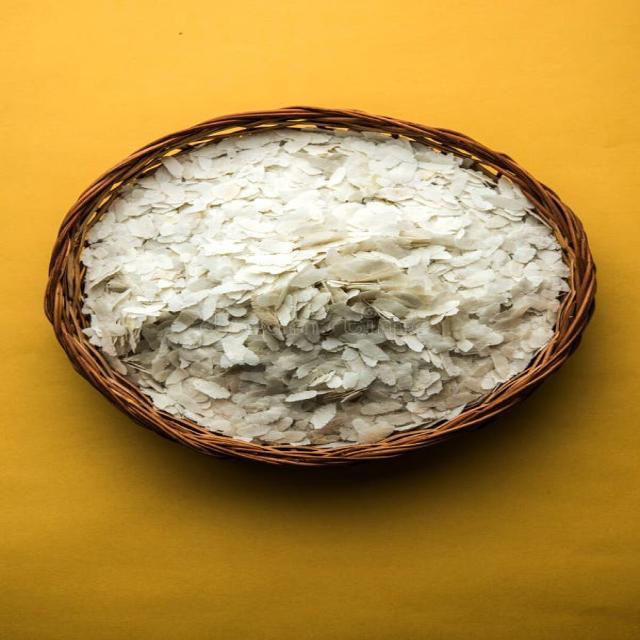POHA: (73, 134, 560, 441)
